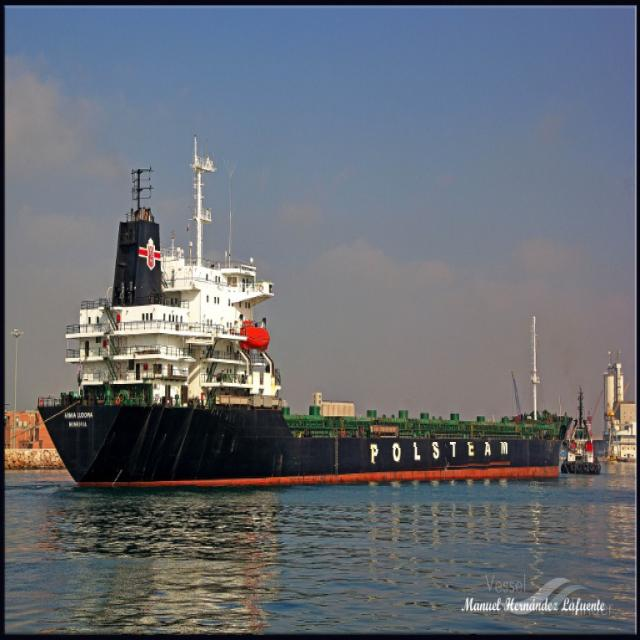OCR: (364, 442, 510, 471)
